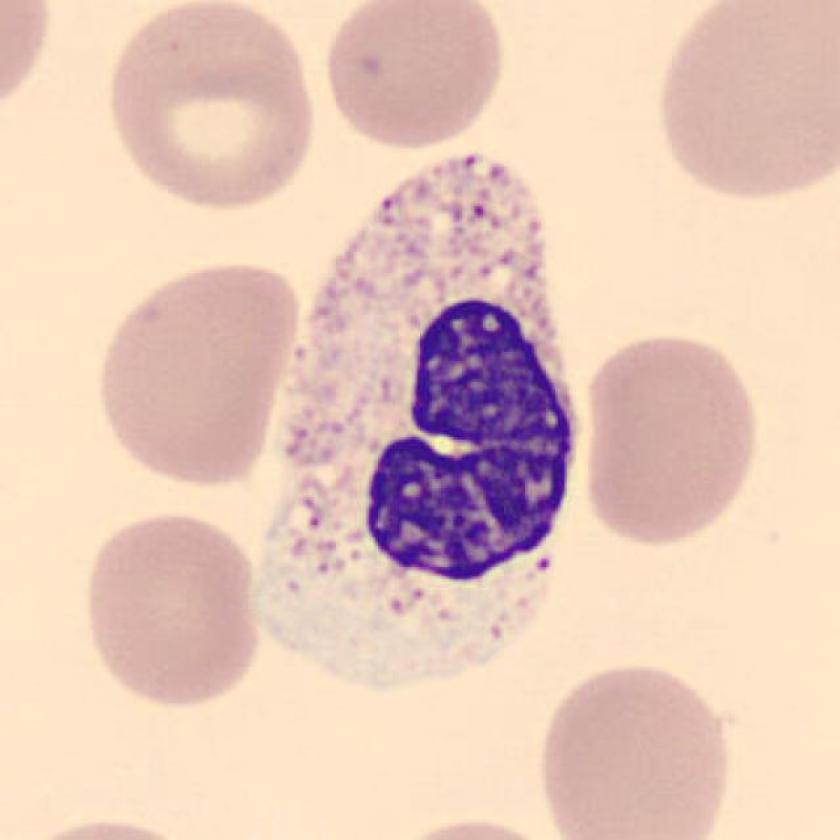neutrophil: (250, 155, 580, 685)
